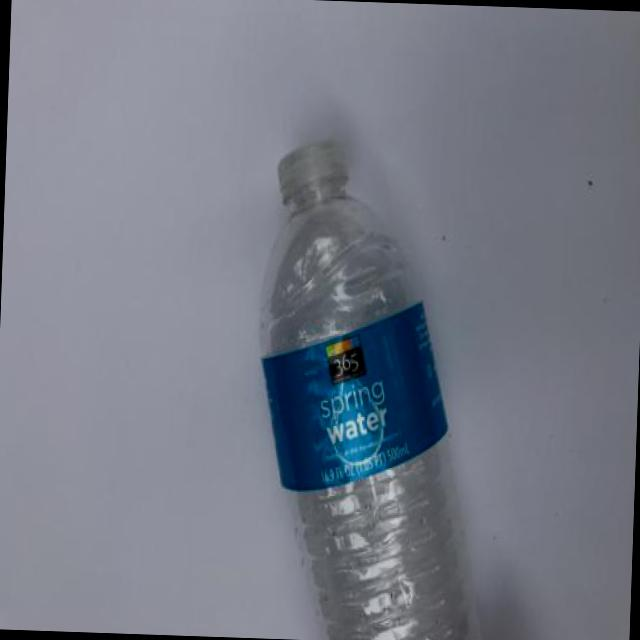Recycle: (247, 138, 496, 640)
